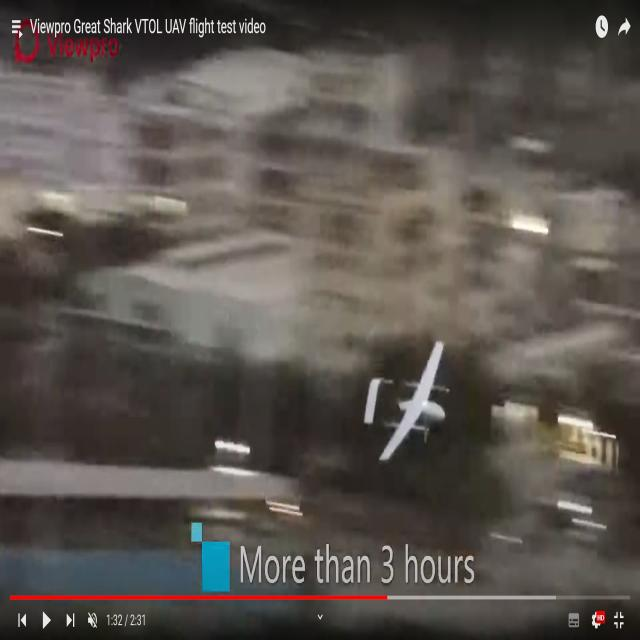iha: (395, 372, 414, 430)
